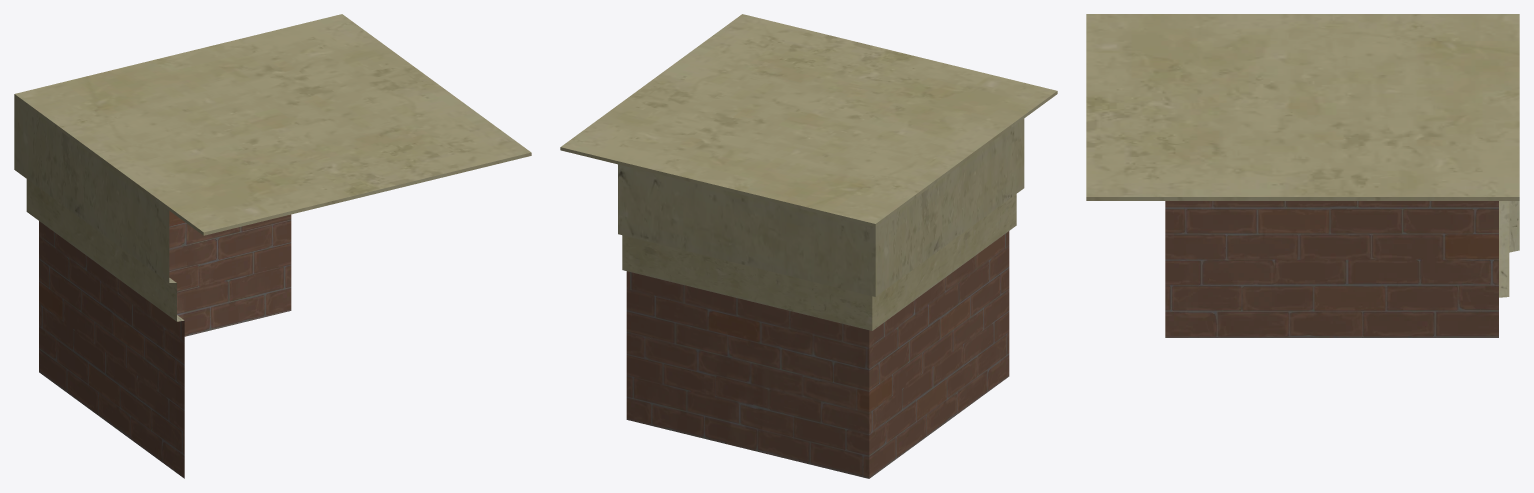
The model's file is Brick_CornerColumn_Cap.glb.
3 views of the same model, side by side, from view 1: azimuth 30°, elevation 25°; view 2: azimuth 150°, elevation 25°; view 3: azimuth 270°, elevation 25° (orthographic). The views are drawn at different scales.
Parts seen in each view (by area): view 1: Brick_CornerColumn_Cap; view 2: Brick_CornerColumn_Cap; view 3: Brick_CornerColumn_Cap.
Boxes of the visible parts, box(x1,y1,x2,y2) form: Brick_CornerColumn_Cap: box(14, 14, 531, 478); Brick_CornerColumn_Cap: box(560, 14, 1057, 478); Brick_CornerColumn_Cap: box(1086, 14, 1519, 337).
Size of the model in its own units: 1.26 by 1.01 by 1.26.
Materials: 2 (2 with a texture image).
